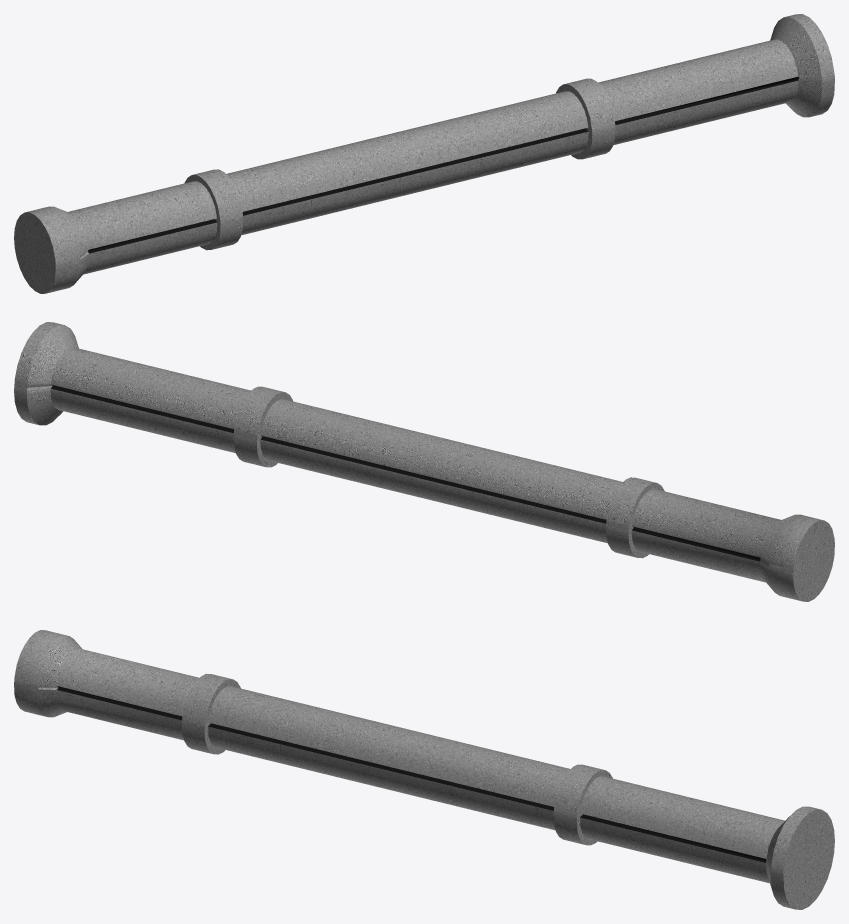
Rendered from FBX_AxeThick.fbx.
The picture shows the model from 3 angles, top to bottom: view 1: azimuth 30°, elevation 25°; view 2: azimuth 150°, elevation 25°; view 3: azimuth 330°, elevation 25°; orthographic projection.
Parts seen in each view (by area): view 1: Thick Axe Export; view 2: Thick Axe Export; view 3: Thick Axe Export.
Part boxes in pixels (x1=…): Thick Axe Export: x1=14, y1=14, x2=834, y2=293; Thick Axe Export: x1=14, y1=322, x2=834, y2=601; Thick Axe Export: x1=14, y1=630, x2=834, y2=909.
Size of the model in its own units: 6.39 by 0.7393 by 0.7388.
